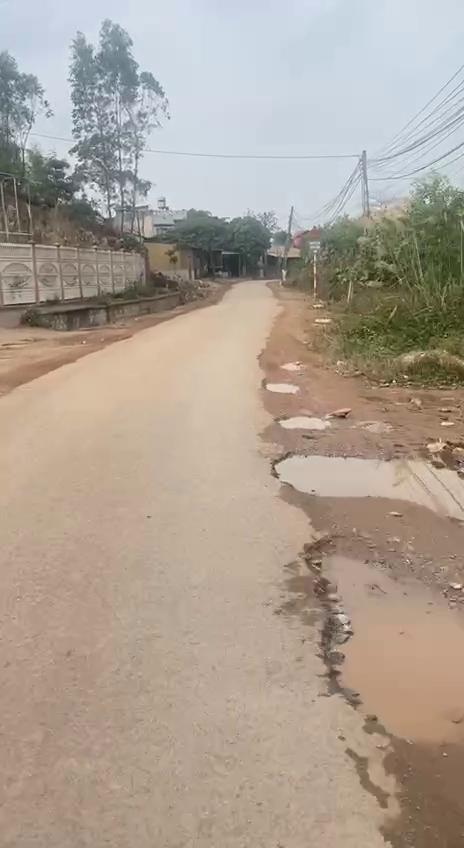pothole: (296, 526, 464, 766), (272, 444, 464, 526), (274, 406, 334, 439)
